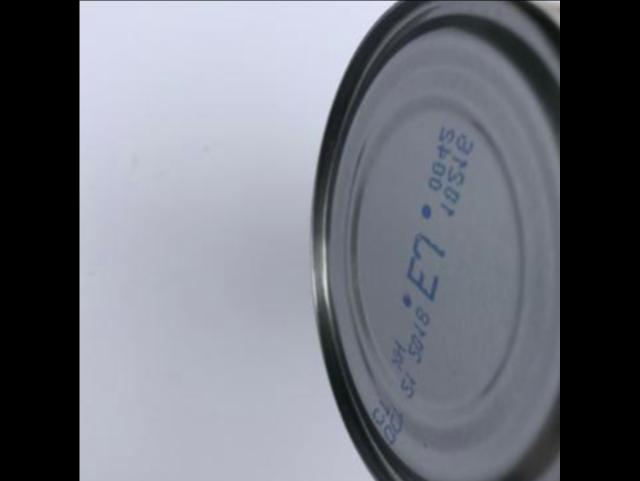metal: (311, 0, 558, 481)
